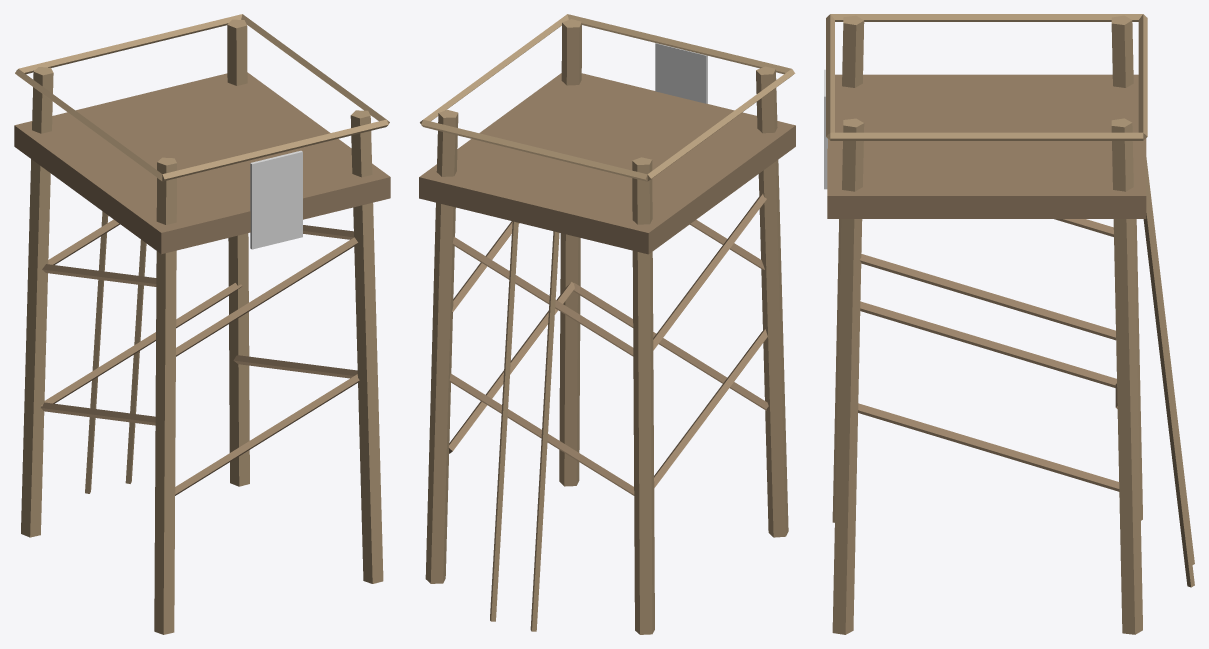
The picture shows the model from 3 angles, left to right: view 1: azimuth 30°, elevation 25°; view 2: azimuth 150°, elevation 25°; view 3: azimuth 270°, elevation 25°; orthographic projection. The views are drawn at different scales.
Visible parts, largest first — view 1: body; view 2: body; view 3: body.
Boxes of the visible parts, box(x1,y1,x2,y2) form: body: box(14, 14, 390, 634); body: box(419, 14, 795, 634); body: box(824, 14, 1194, 634).
Bounding box in the file's own units: 4.54 × 8.71 × 5.81.
